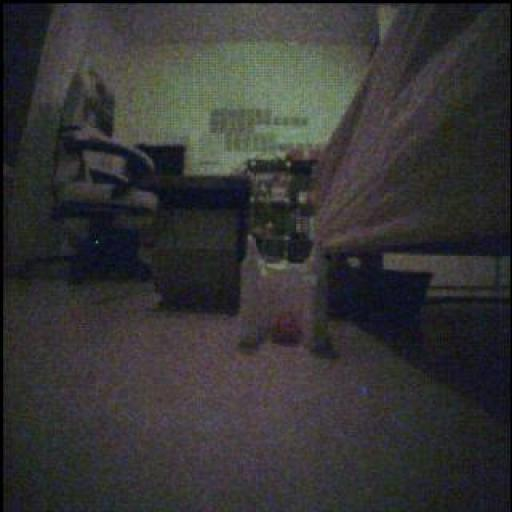basket: (271, 307, 304, 348)
